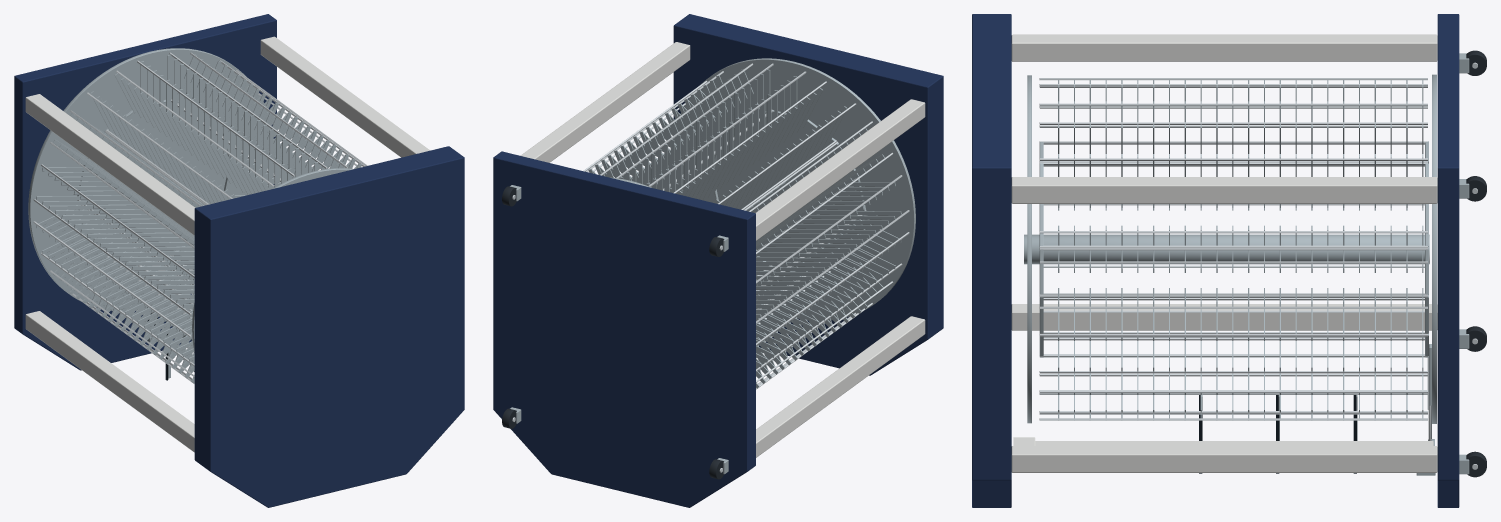
The model's file is AmbiStore.glb.
3 renders of one model, left to right at view 1: azimuth 30°, elevation 25°; view 2: azimuth 150°, elevation 25°; view 3: azimuth 270°, elevation 25°, orthographic. The views are drawn at different scales.
Visible parts, largest first — view 1: Six_sided_carousel_base, Caster_yoke, Elevator_drive_housing, Caster_axle; view 2: Six_sided_carousel_base, Caster_yoke, Elevator_drive_housing, Caster_axle, Caster_wheel; view 3: Elevator_drive_housing, Caster_axle, Six_sided_carousel_base, Caster_yoke, Caster_wheel.
Boxes of the visible parts, box(x1,y1,x2,y2) form: Six_sided_carousel_base: box(14, 14, 464, 507); Caster_yoke: box(28, 48, 361, 382); Elevator_drive_housing: box(25, 36, 429, 452); Caster_axle: box(33, 52, 367, 383); Six_sided_carousel_base: box(493, 14, 943, 507); Caster_yoke: box(510, 58, 915, 474); Elevator_drive_housing: box(520, 42, 925, 457); Caster_axle: box(512, 63, 909, 472); Caster_wheel: box(502, 186, 724, 479); Elevator_drive_housing: box(1011, 34, 1437, 472); Caster_axle: box(1039, 62, 1477, 469); Six_sided_carousel_base: box(972, 14, 1459, 507); Caster_yoke: box(1024, 53, 1469, 475); Caster_wheel: box(1466, 50, 1486, 477).
Bounding box in the file's own units: 0.737 × 0.8381 × 1.04.
